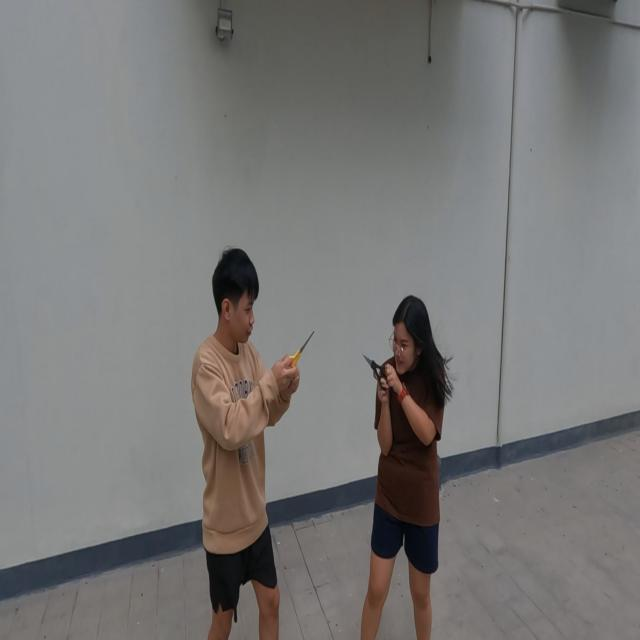scissor: (286, 328, 315, 376), (362, 353, 391, 392)
